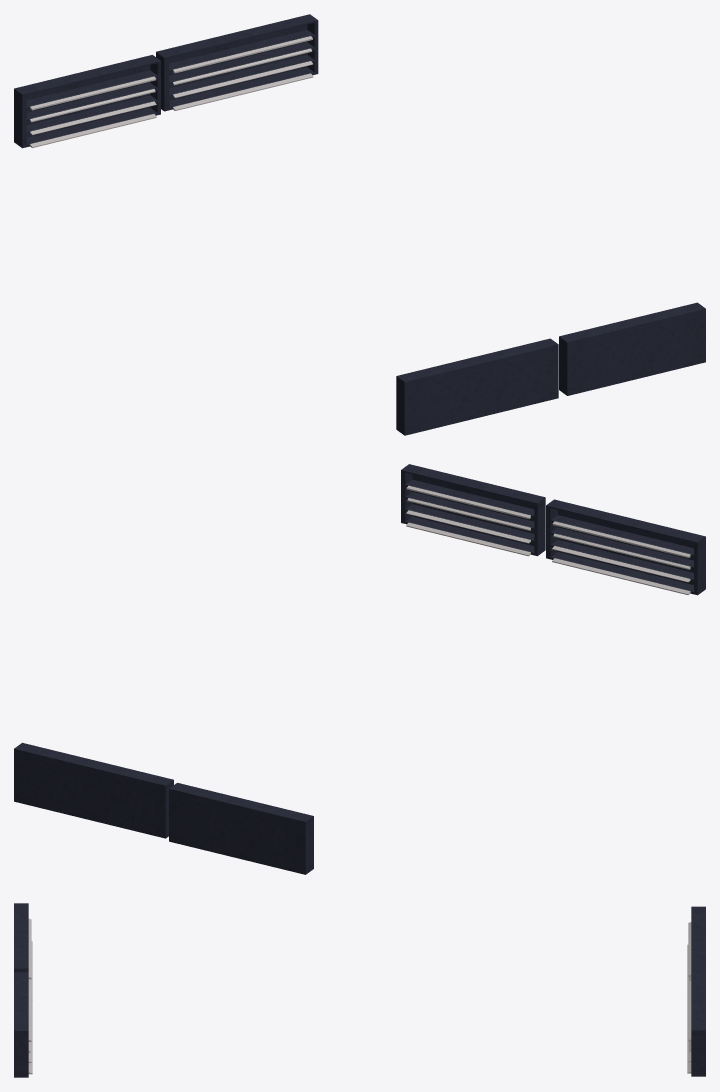
The model's file is sideShelves_EMBED.fbx.
The picture shows the model from 3 angles, top to bottom: view 1: azimuth 30°, elevation 25°; view 2: azimuth 150°, elevation 25°; view 3: azimuth 270°, elevation 25°; orthographic projection. The views are drawn at different scales.
Parts seen in each view (by area): view 1: Shelf.009, Shelf.010, Shelf.008, Shelf.011; view 2: Shelf.010, Shelf.009, Shelf.011, Shelf.008; view 3: Shelf.009, Shelf.011, Shelf.010, Shelf.008.
Part boxes in pixels (x1,y1,x2,y2): Shelf.009: (156, 14, 318, 111); Shelf.010: (396, 338, 558, 435); Shelf.008: (14, 55, 160, 148); Shelf.011: (559, 302, 705, 395); Shelf.010: (546, 499, 705, 595); Shelf.009: (14, 742, 173, 838); Shelf.011: (401, 464, 545, 556); Shelf.008: (169, 783, 313, 874); Shelf.009: (687, 965, 705, 1076); Shelf.011: (14, 972, 32, 1077); Shelf.010: (14, 903, 32, 1009); Shelf.008: (687, 906, 705, 1003).
Bounding box in the file's own units: 6274 × 1102 × 14260.
Materials: 1 (1 with a texture image).
